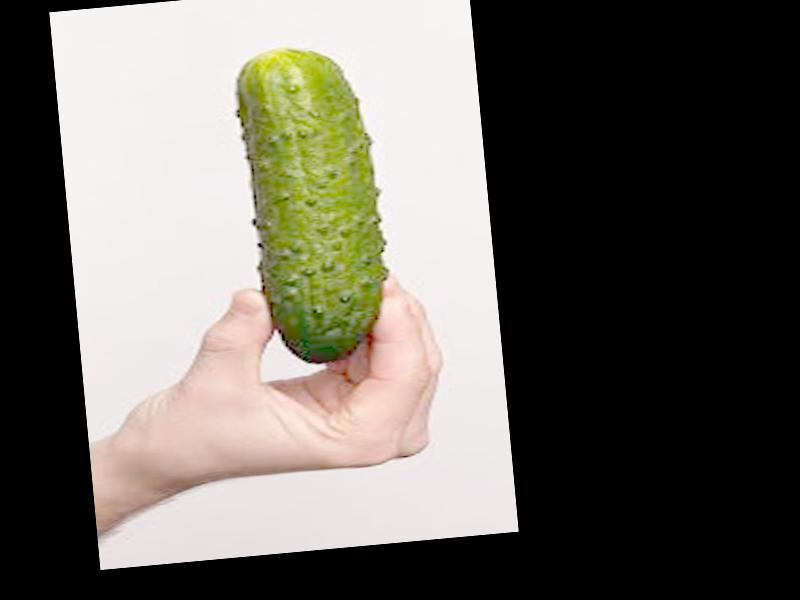Cucumber: (242, 43, 393, 368)
